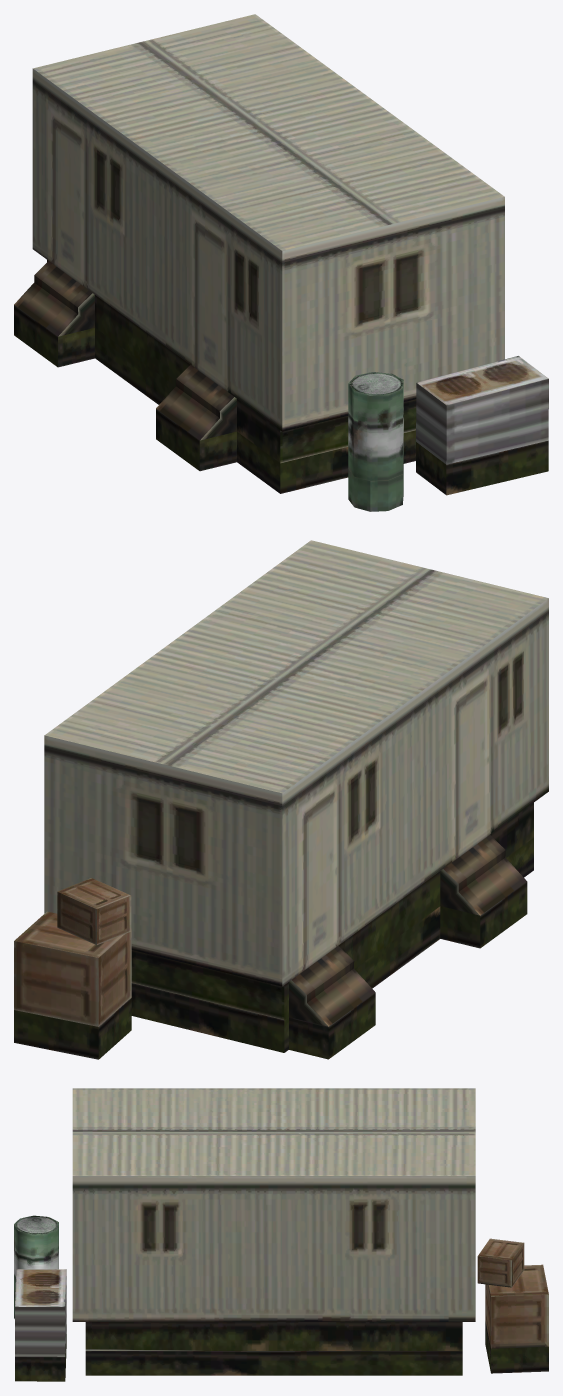
Rendered from base_exchange_1_str.fbx.
3 views of the same model, one above another, from view 1: azimuth 30°, elevation 25°; view 2: azimuth 150°, elevation 25°; view 3: azimuth 270°, elevation 25° (orthographic). The views are drawn at different scales.
Visible parts, largest first — view 1: base_exchange_str_instancebase_exchange_str_2-mesh, base_exchange_str; view 2: base_exchange_str_instancebase_exchange_str_2-mesh, base_exchange_str; view 3: base_exchange_str_instancebase_exchange_str_2-mesh, base_exchange_str.
Boxes of the visible parts, bbox=[...] form: base_exchange_str_instancebase_exchange_str_2-mesh: bbox=[14, 14, 548, 495]; base_exchange_str: bbox=[348, 356, 548, 511]; base_exchange_str_instancebase_exchange_str_2-mesh: bbox=[14, 540, 548, 1059]; base_exchange_str: bbox=[14, 878, 131, 1026]; base_exchange_str_instancebase_exchange_str_2-mesh: bbox=[15, 1088, 548, 1381]; base_exchange_str: bbox=[14, 1215, 548, 1356].
Bounding box in the file's own units: 4.43 × 9.68 × 4.04.
